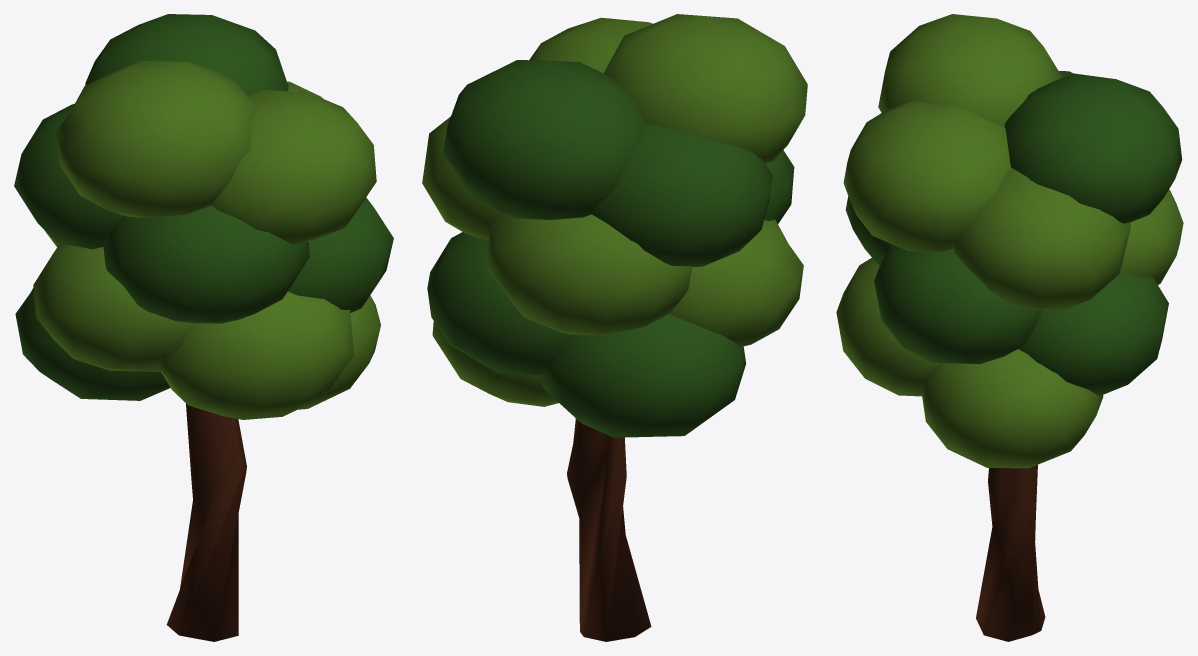
File: SM_tree_LOD2.fbx
3 views of the same model, side by side, from view 1: azimuth 30°, elevation 25°; view 2: azimuth 150°, elevation 25°; view 3: azimuth 270°, elevation 25° (orthographic). The views are drawn at different scales.
Visible parts, largest first — view 1: SM_tree_LOD2; view 2: SM_tree_LOD2; view 3: SM_tree_LOD2.
Part boxes in pixels (left/top/right/bottom): SM_tree_LOD2: left=14, top=14, right=393, bottom=641; SM_tree_LOD2: left=422, top=14, right=807, bottom=641; SM_tree_LOD2: left=836, top=14, right=1183, bottom=641.
Bounding box in the file's own units: 1.55 × 1.47 × 2.66.
